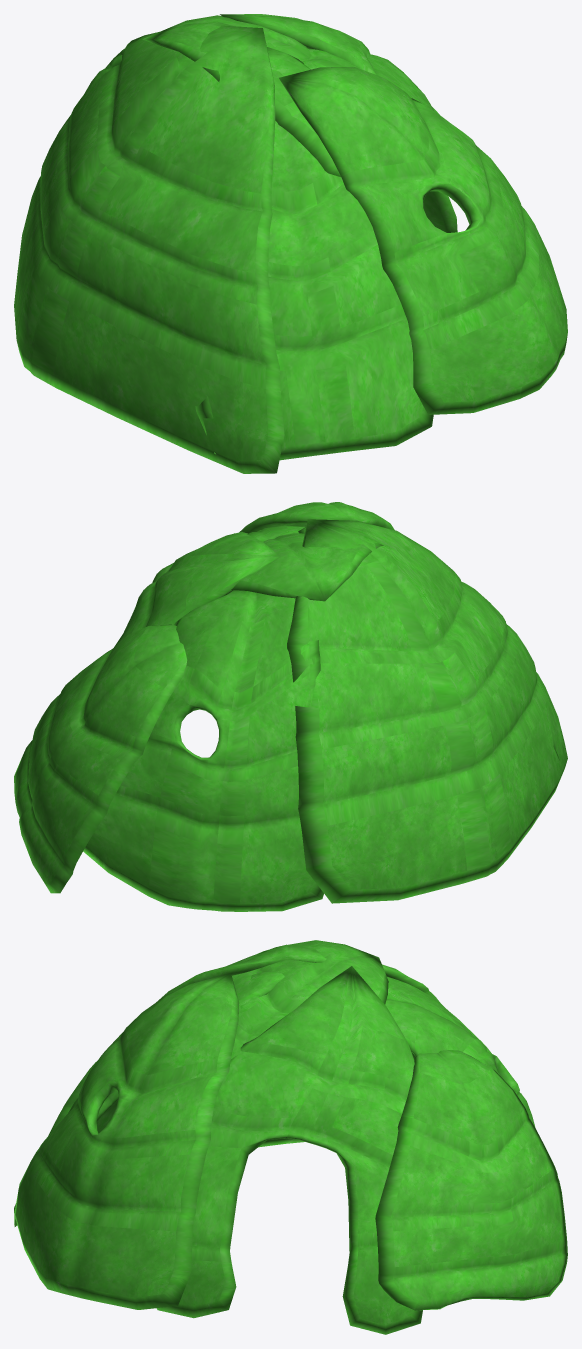
File: LilyHut.fbx
3 views of the same model, one above another, from view 1: azimuth 30°, elevation 25°; view 2: azimuth 150°, elevation 25°; view 3: azimuth 270°, elevation 25° (orthographic). The views are drawn at different scales.
Visible parts, largest first — view 1: Cube_125; view 2: Cube_125; view 3: Cube_125.
Part boxes in pixels (bbox=[...]): Cube_125: bbox=[14, 14, 567, 473]; Cube_125: bbox=[14, 502, 567, 911]; Cube_125: bbox=[14, 940, 567, 1334].
Bounding box in the file's own units: 8.17 × 5.46 × 9.6.
